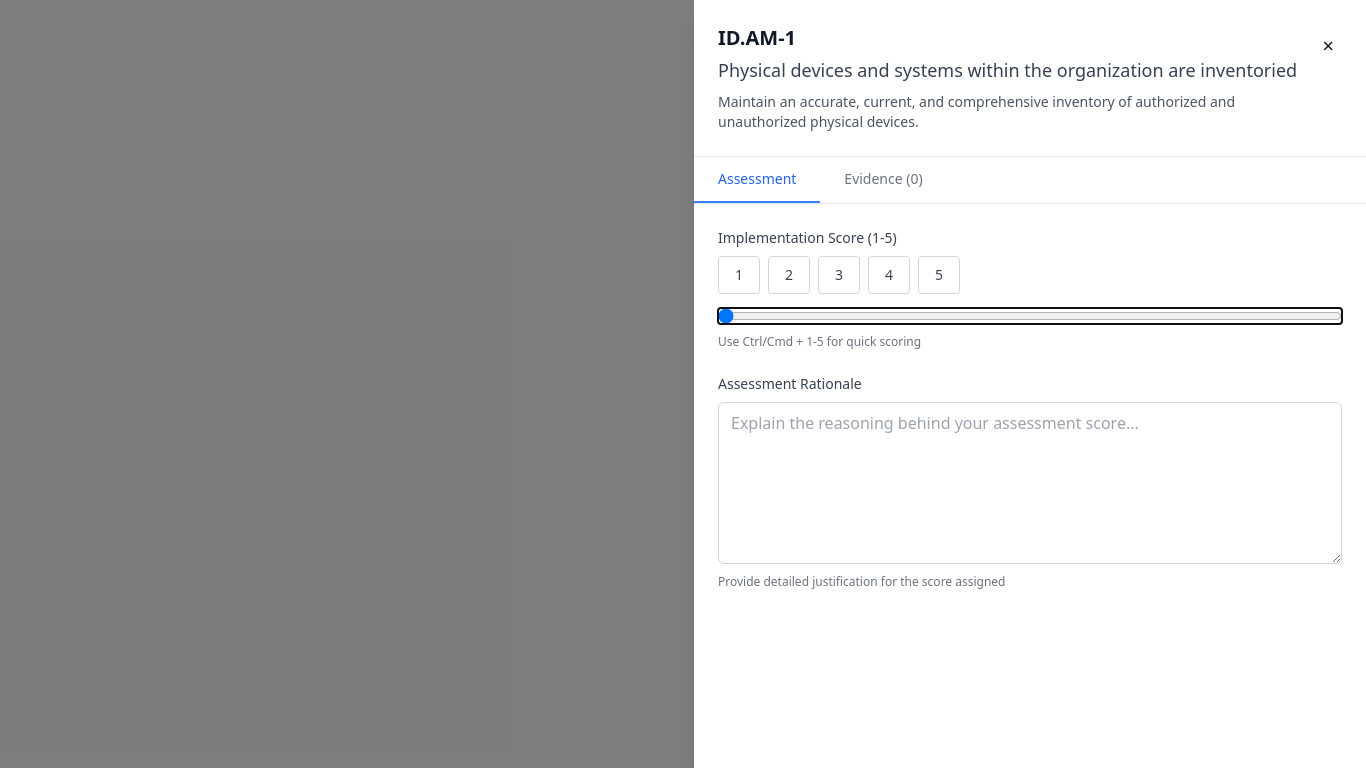
SubcategoryDrawer › displays empty state when no evidence
The image size is (1366, 768).
# Switch to evidence tab
Click the tab "Evidence (0)". click: (884, 180)
box: [820, 157, 947, 203]
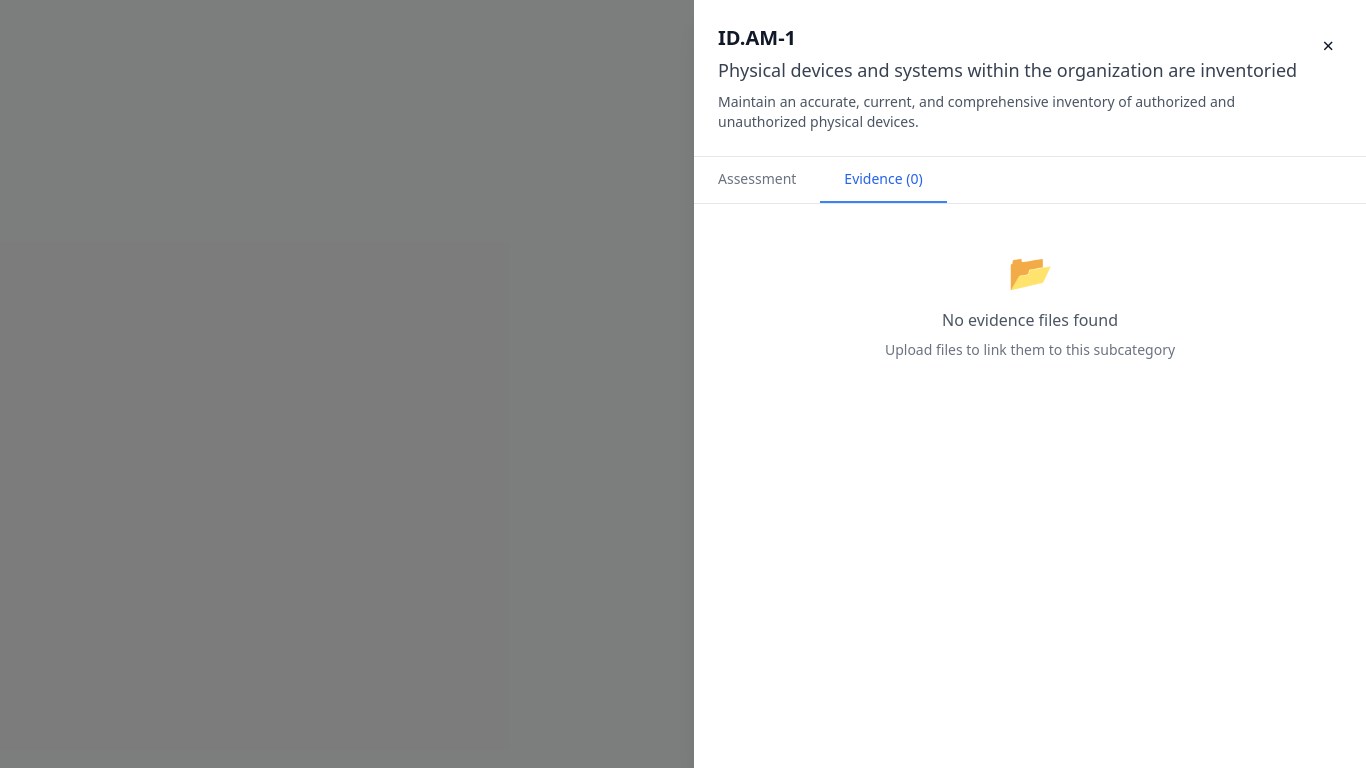
Check: the text "No evidence files found" is shown, box [942, 308, 1118, 332]
